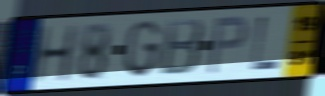8: (77, 21, 112, 83)
B: (158, 16, 206, 78)
G: (122, 18, 163, 80)
H: (30, 23, 79, 85)
L: (249, 14, 282, 72)
P: (206, 14, 250, 77)
